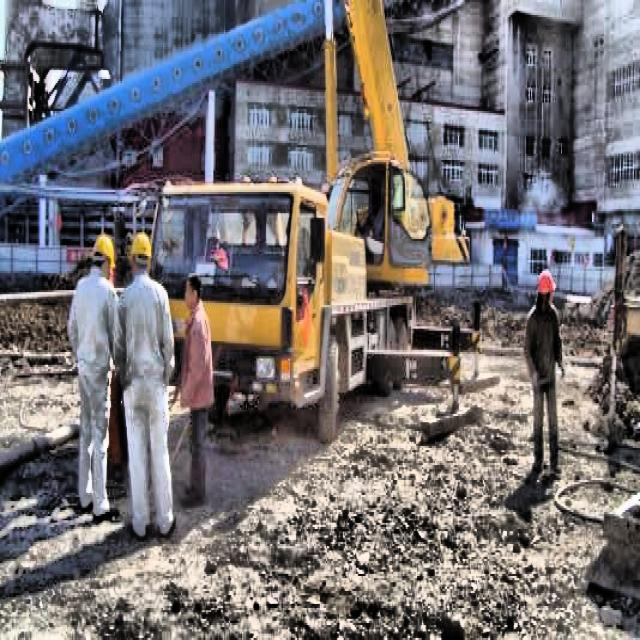helmet: (90, 232, 115, 278), (130, 235, 154, 277), (534, 269, 558, 309)
